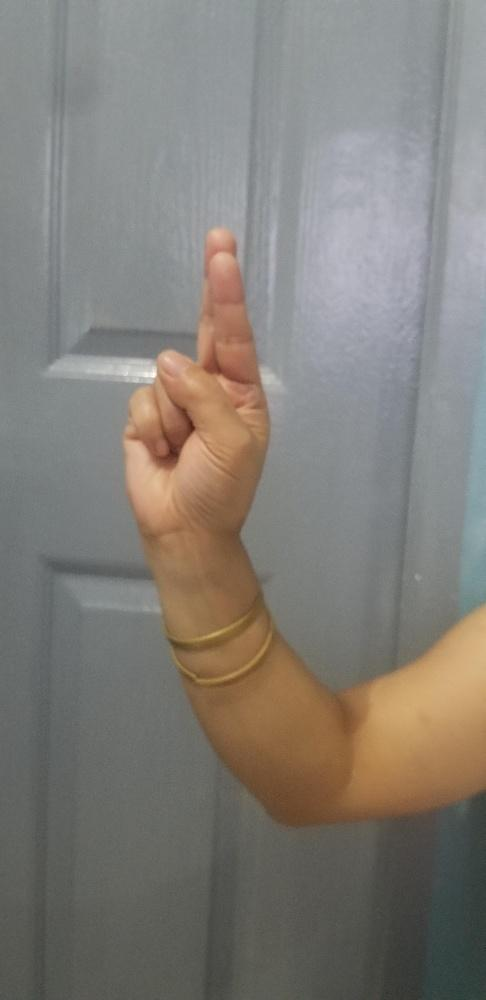r: (121, 227, 270, 537)
